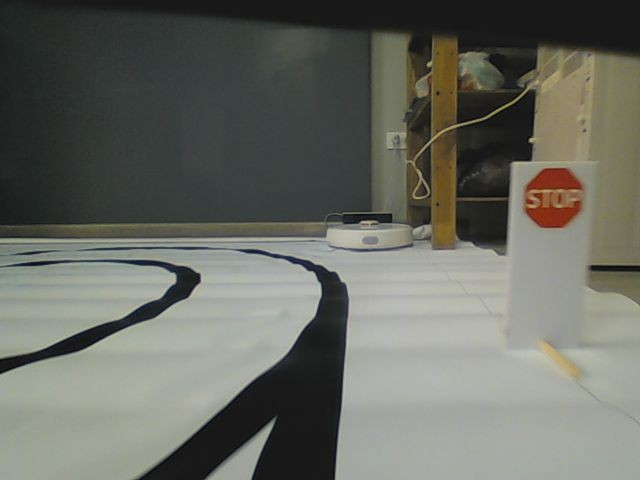Stop: (524, 165, 585, 230)
